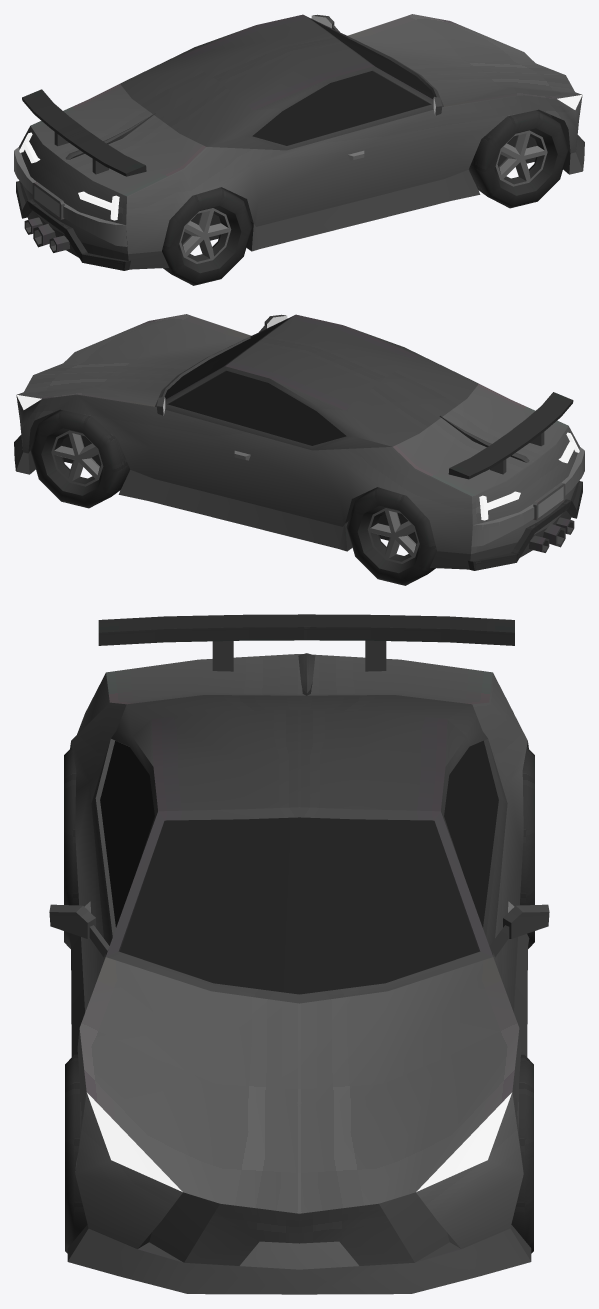
File: ghini.glb
3 views of the same model, one above another, from view 1: azimuth 30°, elevation 25°; view 2: azimuth 150°, elevation 25°; view 3: azimuth 270°, elevation 25° (orthographic). The views are drawn at different scales.
Parts seen in each view (by area): view 1: ghini; view 2: ghini; view 3: ghini.
Boxes of the visible parts, left/top/right/bottom form: ghini: left=14, top=14, right=584, bottom=285; ghini: left=14, top=314, right=584, bottom=585; ghini: left=49, top=614, right=549, bottom=1294.
Bounding box in the file's own units: 4.79 × 1.38 × 1.97.
4 materials, 3 textured.
